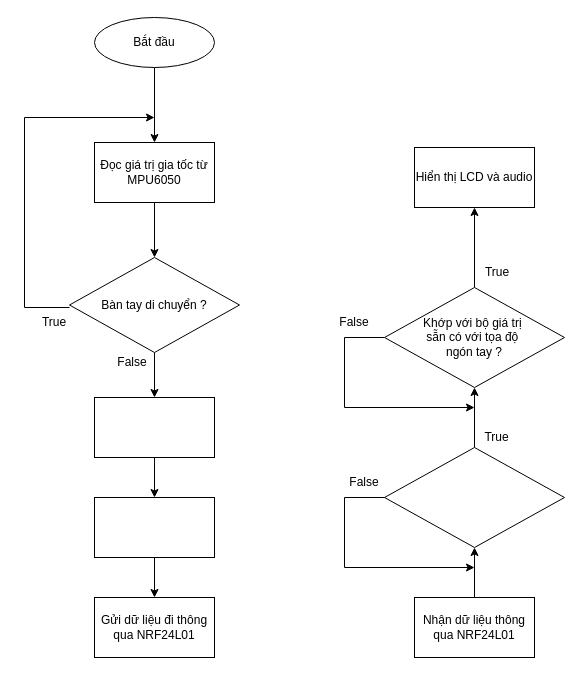
The diagram is 582 pixels wide and 675 high, and some of its shapes have lost their labels. Each missing label, with the box of its shape:
Khớp với bộ giá trị sẵn có với góc bàn tay ?: (384, 446, 564, 548)
Tính giá trị góc bàn tay so với phương nằm ngan: (94, 396, 214, 458)
Đọc giá trị từ Flex Sensor cho từng ngón tay: (94, 496, 214, 558)
